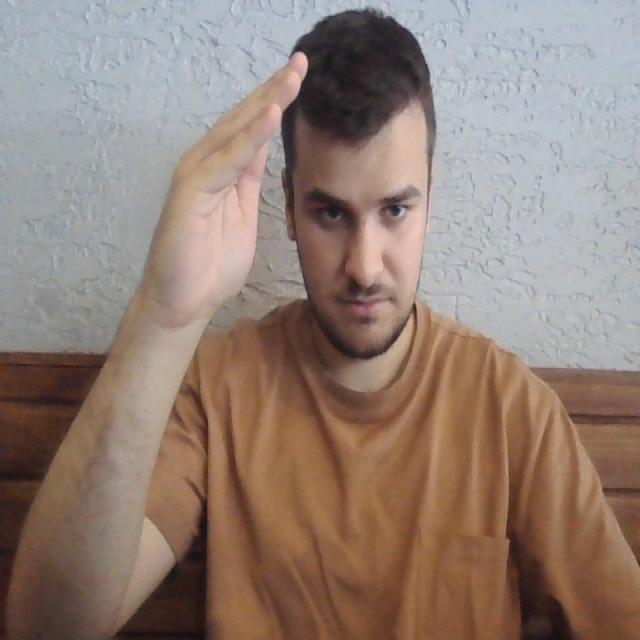Merhaba: (143, 33, 340, 318)
